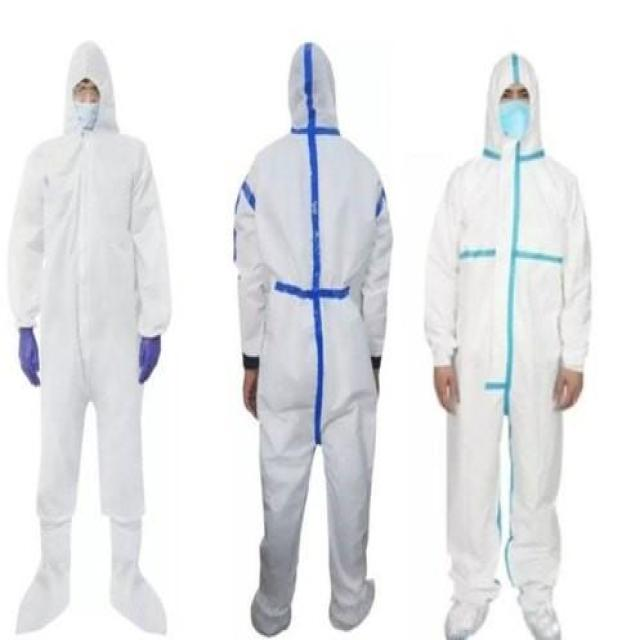Coverall: (402, 13, 587, 640), (214, 18, 389, 640), (10, 18, 184, 640)
Mask: (496, 101, 532, 136), (71, 96, 109, 128)
